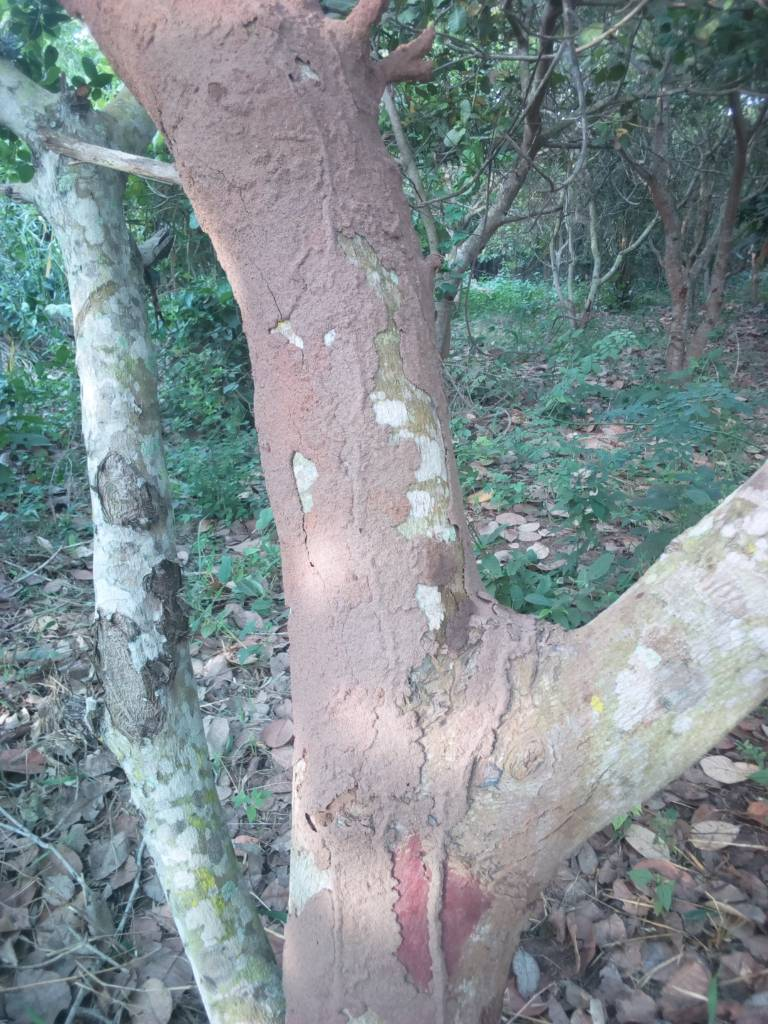Termites: (297, 553, 518, 1024), (268, 85, 429, 555), (166, 1, 338, 80)
